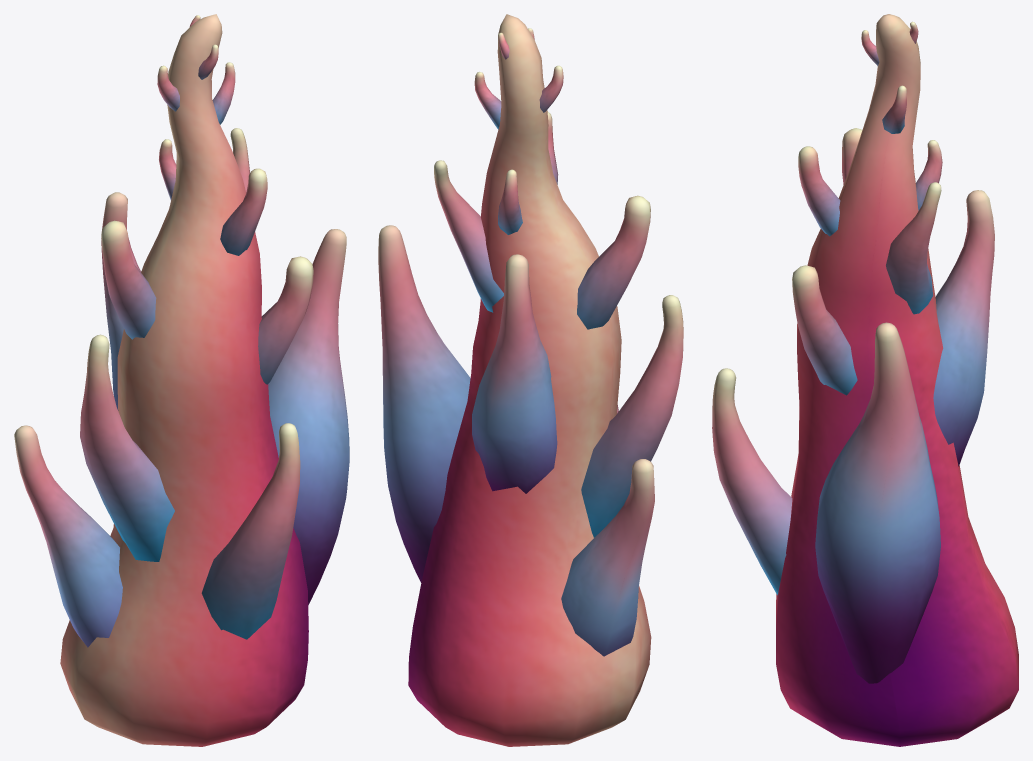
The model's file is Cartoon Seaweed_13-2-4.fbx.
The picture shows the model from 3 angles, left to right: view 1: azimuth 30°, elevation 25°; view 2: azimuth 150°, elevation 25°; view 3: azimuth 270°, elevation 25°; orthographic projection. The views are drawn at different scales.
Visible parts, largest first — view 1: Cartoon Seaweed_13.2.4; view 2: Cartoon Seaweed_13.2.4; view 3: Cartoon Seaweed_13.2.4.
Boxes of the visible parts, x1=… form: Cartoon Seaweed_13.2.4: x1=14, y1=14, x2=349, y2=746; Cartoon Seaweed_13.2.4: x1=378, y1=14, x2=683, y2=746; Cartoon Seaweed_13.2.4: x1=712, y1=14, x2=1018, y2=746.
Size of the model in its own units: 54.61 by 121 by 47.05.
1 material, 1 textured.
